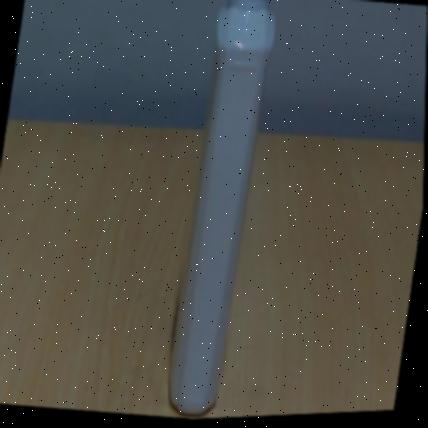bottle: (169, 0, 274, 414)
